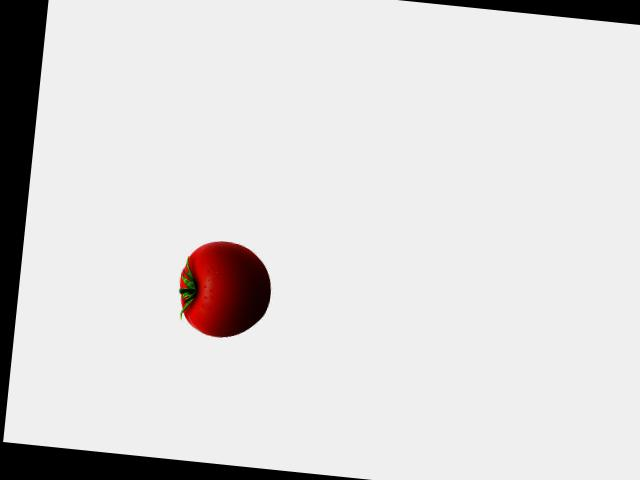tomato: (175, 248, 274, 341)
